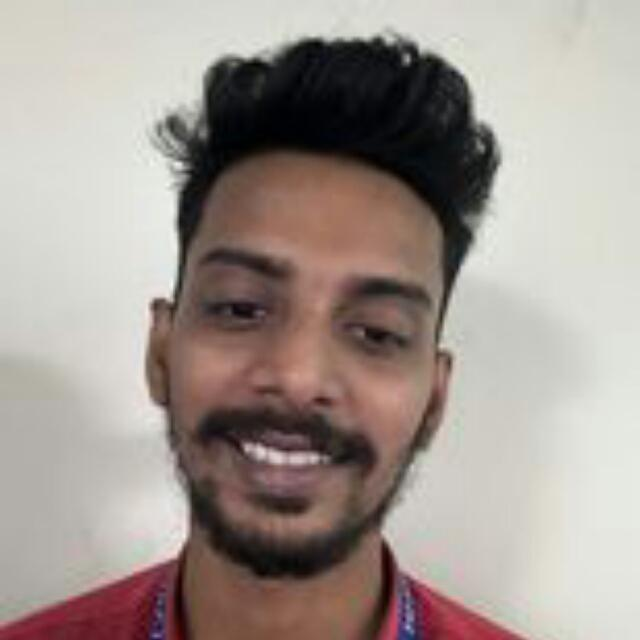Happy: (117, 202, 478, 562)
